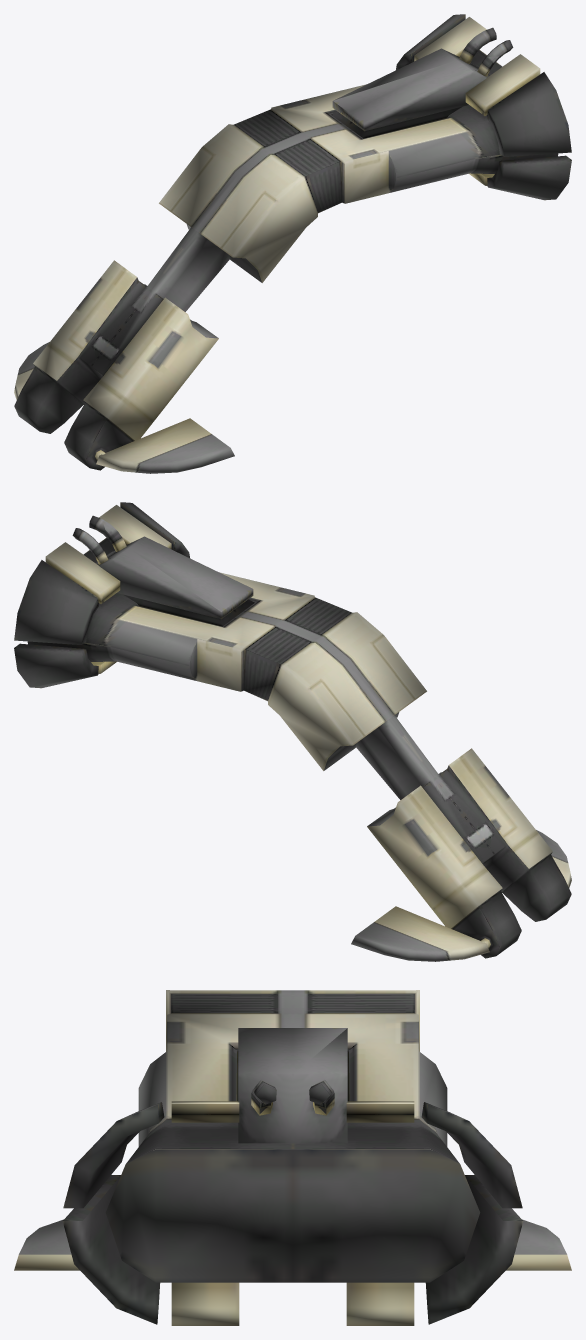
File: KeeperConsole01.FBX
3 views of the same model, one above another, from view 1: azimuth 30°, elevation 25°; view 2: azimuth 150°, elevation 25°; view 3: azimuth 270°, elevation 25° (orthographic). The views are drawn at different scales.
Parts seen in each view (by area): view 1: KeeperConsole01; view 2: KeeperConsole01; view 3: KeeperConsole01.
Part boxes in pixels (x1,y1,x2,y2): KeeperConsole01: (14, 14, 571, 473); KeeperConsole01: (14, 502, 571, 961); KeeperConsole01: (14, 990, 571, 1325).
Bounding box in the file's own units: 1.47 × 0.9364 × 0.9083.
